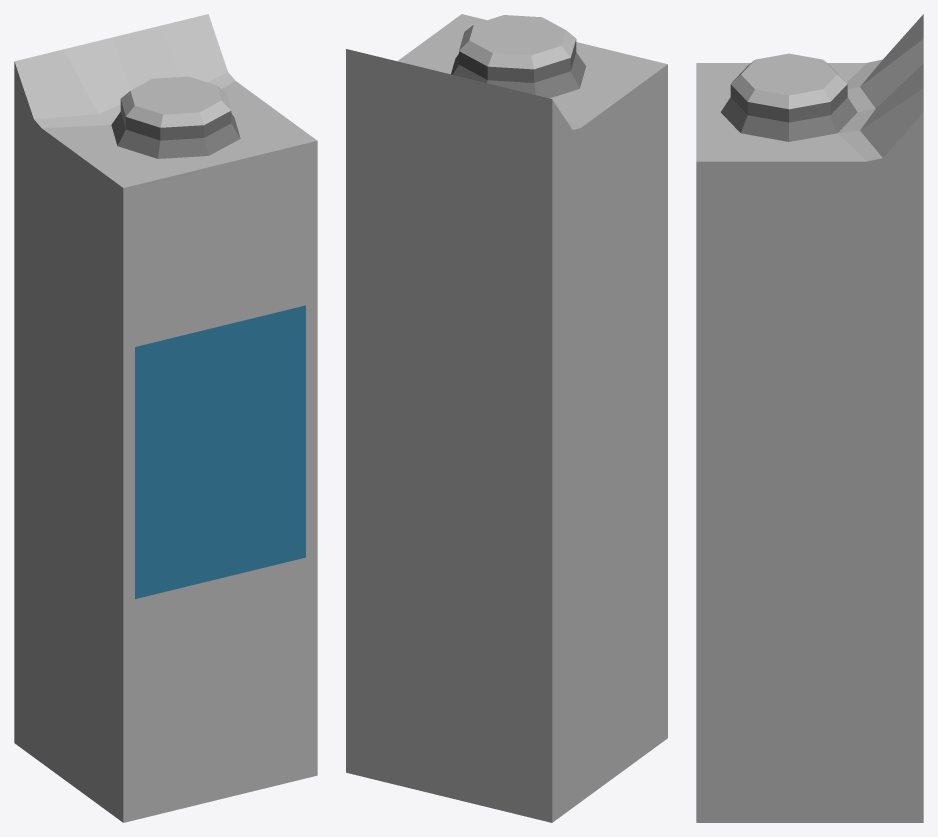
The model's file is Milk.fbx.
The picture shows the model from 3 angles, left to right: view 1: azimuth 30°, elevation 25°; view 2: azimuth 150°, elevation 25°; view 3: azimuth 270°, elevation 25°; orthographic projection. The views are drawn at different scales.
Parts seen in each view (by area): view 1: Cube; view 2: Cube; view 3: Cube.
Part boxes in pixels (<box>): Cube: <box>14,14,317,822</box>; Cube: <box>346,14,667,822</box>; Cube: <box>696,14,923,822</box>.
Size of the model in its own units: 74.7 by 251 by 72.66.
